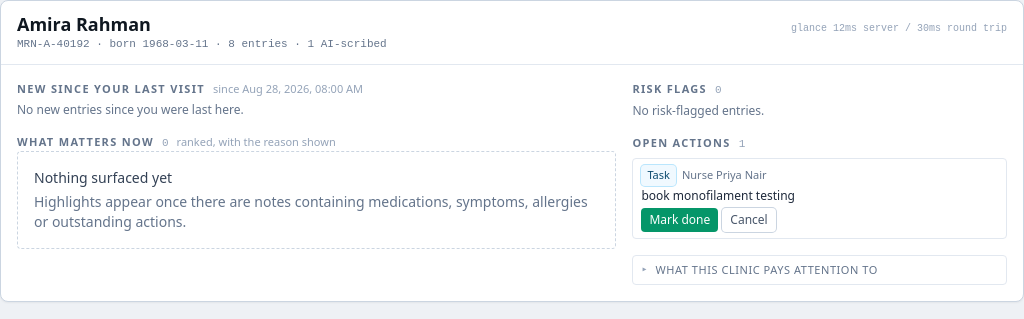
Scenario: open actions — closing a task › surfaces a failure instead of silently doing nothing
This screenshot has width=1024, height=319.
Step 1. Click the button "Mark done" → (680, 220), box [641, 208, 718, 232]
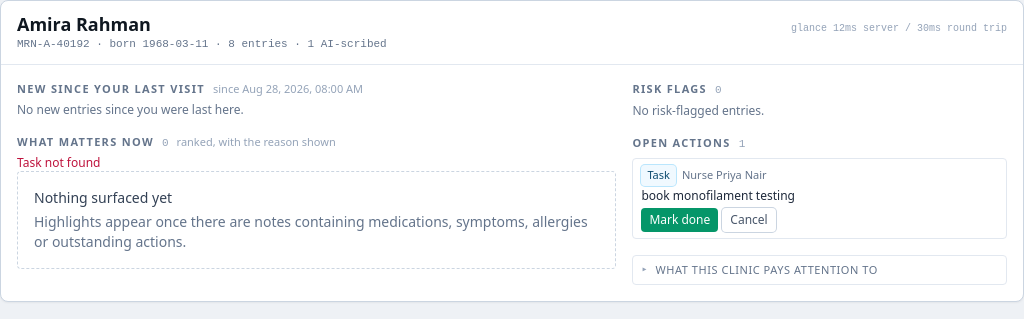
Now the text "Task not found" is shown, box [17, 154, 100, 171]
